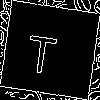T: (24, 25, 60, 75)
